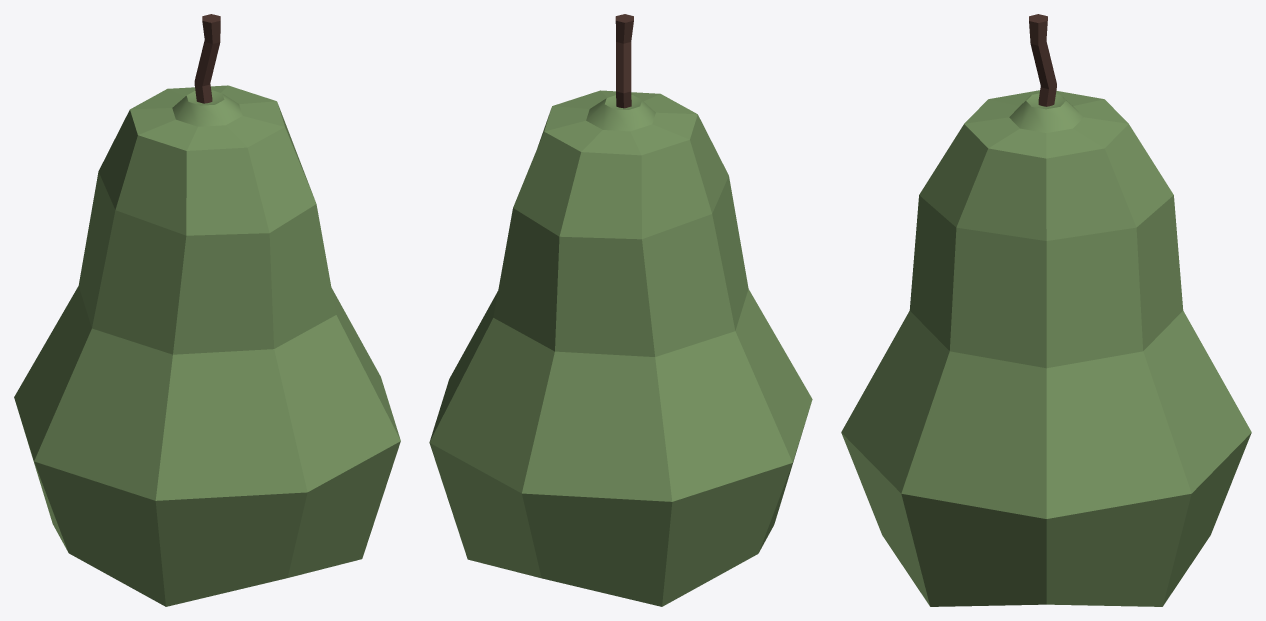
Rendered from Low Poly Pear.fbx.
3 renders of one model, left to right at view 1: azimuth 30°, elevation 25°; view 2: azimuth 150°, elevation 25°; view 3: azimuth 270°, elevation 25°, orthographic. The views are drawn at different scales.
Visible parts, largest first — view 1: Pear_main, Stem; view 2: Pear_main, Stem; view 3: Pear_main, Stem.
Part boxes in pixels (box(x1,y1,x2,y2)): Pear_main: box(14, 85, 400, 606); Stem: box(194, 14, 220, 103); Pear_main: box(429, 90, 812, 606); Stem: box(615, 14, 633, 108); Pear_main: box(841, 90, 1251, 606); Stem: box(1029, 14, 1056, 106).
Size of the model in its own units: 2.03 by 2.95 by 2.03.
